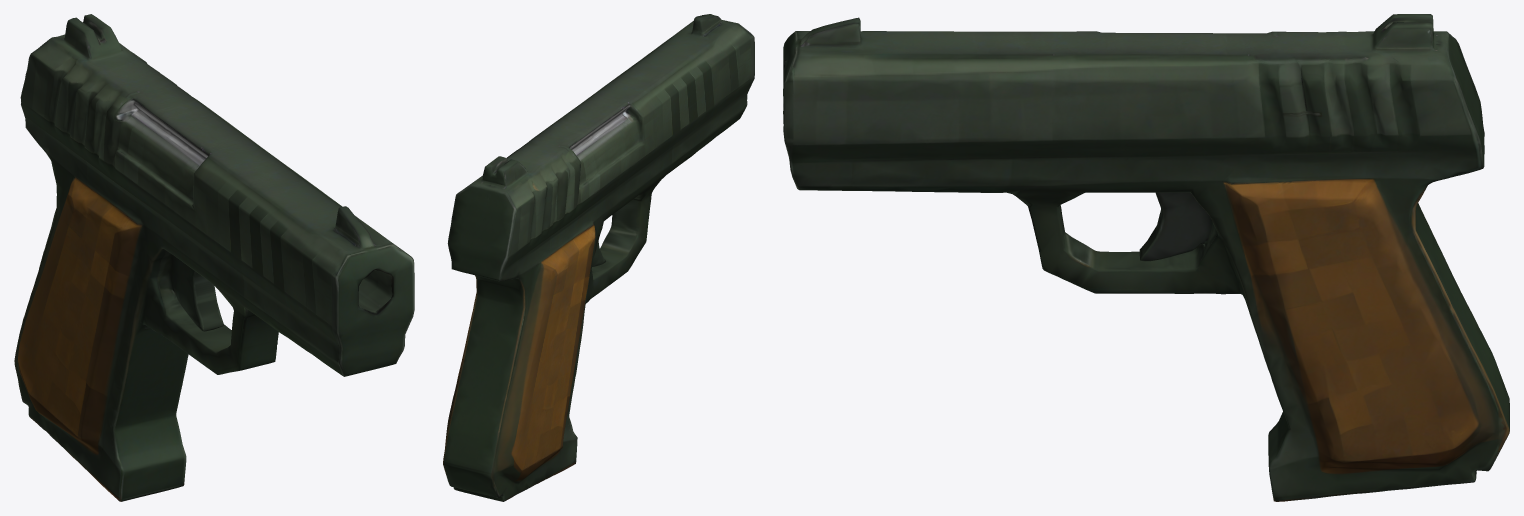
Rendered from Model_Pistol.fbx.
The picture shows the model from 3 angles, left to right: view 1: azimuth 30°, elevation 25°; view 2: azimuth 150°, elevation 25°; view 3: azimuth 270°, elevation 25°; orthographic projection. The views are drawn at different scales.
Parts seen in each view (by area): view 1: Mesh1.0; view 2: Mesh1.0; view 3: Mesh1.0.
Boxes of the visible parts, left/top/right/bottom form: Mesh1.0: left=14, top=14, right=414, bottom=501; Mesh1.0: left=443, top=14, right=754, bottom=501; Mesh1.0: left=783, top=14, right=1509, bottom=501.
Bounding box in the file's own units: 30.34 × 142 × 200.
Materials: 1 (1 with a texture image).
